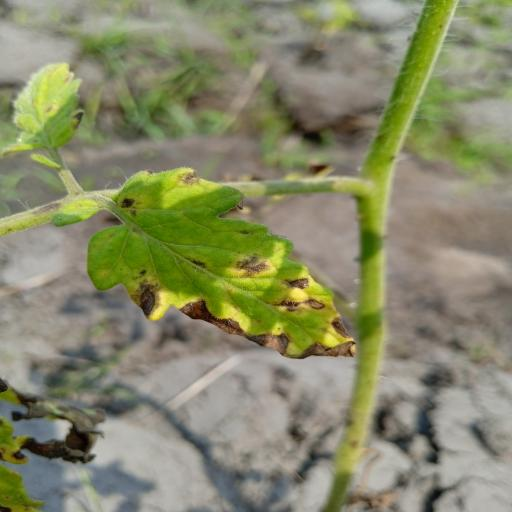Tomato_Brown_Spots: (84, 165, 364, 360)
